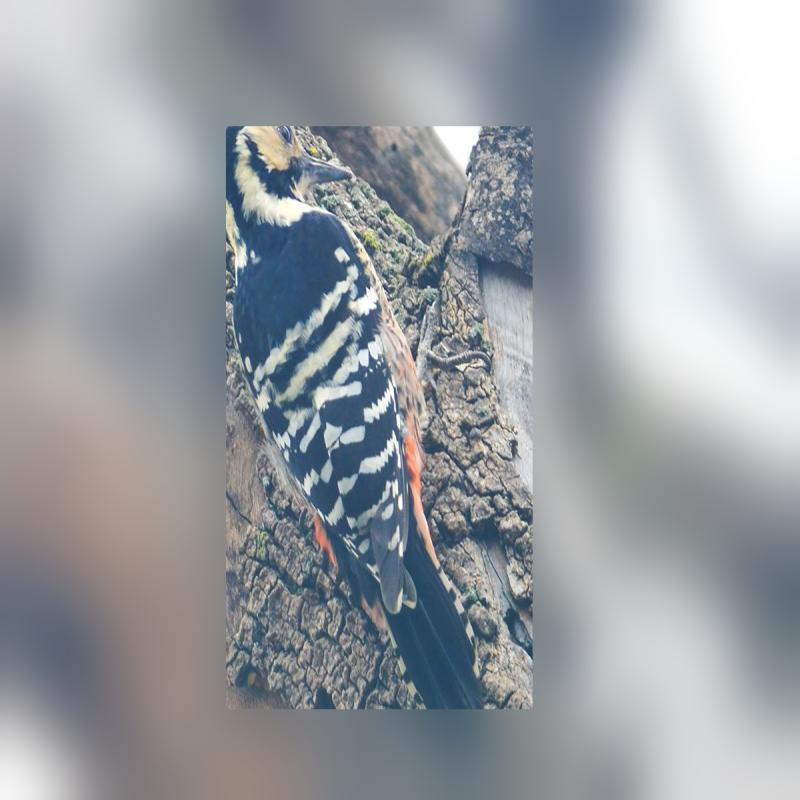white-backed woodpecker: (228, 122, 499, 718)
